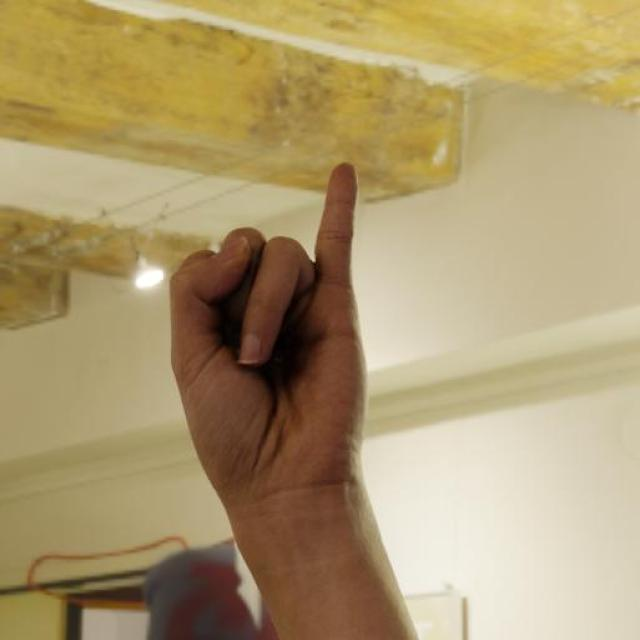I: (165, 157, 372, 531)
